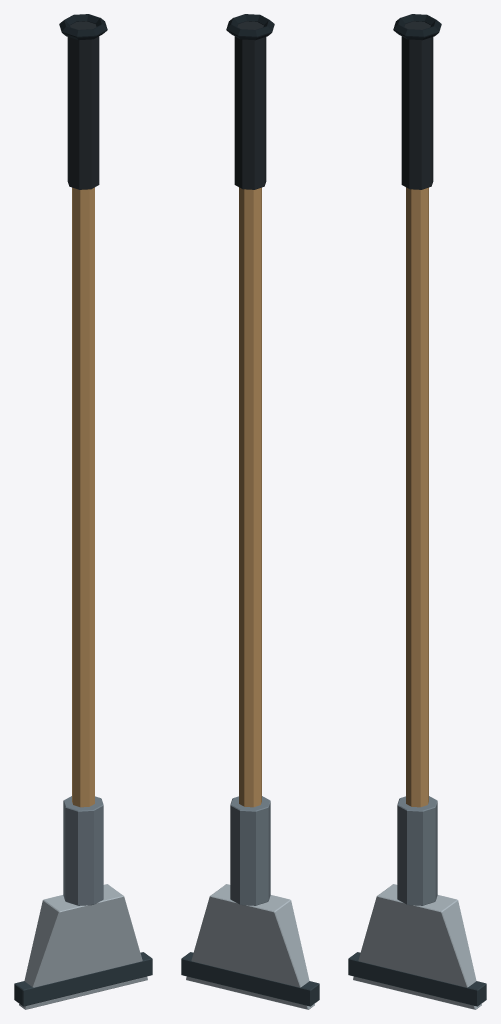
Rendered from b20_sidewalk_ice_chopper.glb.
3 views of the same model, side by side, from view 1: azimuth 30°, elevation 25°; view 2: azimuth 150°, elevation 25°; view 3: azimuth 330°, elevation 25° (orthographic).
Parts seen in each view (by area): view 1: b20_sidewalk_ice_chopper; view 2: b20_sidewalk_ice_chopper; view 3: b20_sidewalk_ice_chopper.
Part boxes in pixels (box(x1,y1,x2,y2)): b20_sidewalk_ice_chopper: box(14, 14, 152, 1009); b20_sidewalk_ice_chopper: box(181, 14, 319, 1009); b20_sidewalk_ice_chopper: box(348, 14, 486, 1009).
Size of the model in its own units: 0.2 by 1.43 by 0.0665.
